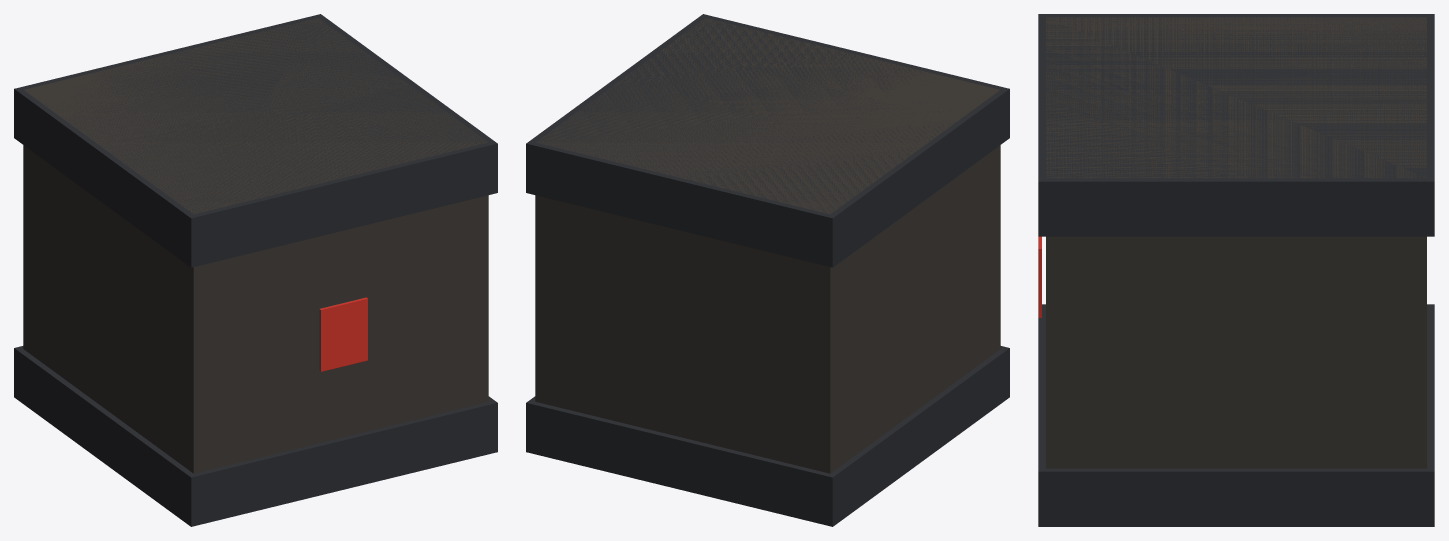
Rendered from tech_crate_small.glb.
3 views of the same model, side by side, from view 1: azimuth 30°, elevation 25°; view 2: azimuth 150°, elevation 25°; view 3: azimuth 270°, elevation 25° (orthographic). The views are drawn at different scales.
Parts seen in each view (by area): view 1: sw5e_int_tech_crate_small; view 2: sw5e_int_tech_crate_small; view 3: sw5e_int_tech_crate_small.
Part boxes in pixels (x1=…): sw5e_int_tech_crate_small: x1=14, y1=14, x2=497, y2=526; sw5e_int_tech_crate_small: x1=526, y1=14, x2=1009, y2=526; sw5e_int_tech_crate_small: x1=1038, y1=14, x2=1434, y2=526.
Bounding box in the file's own units: 0.52 × 0.5 × 0.52.
